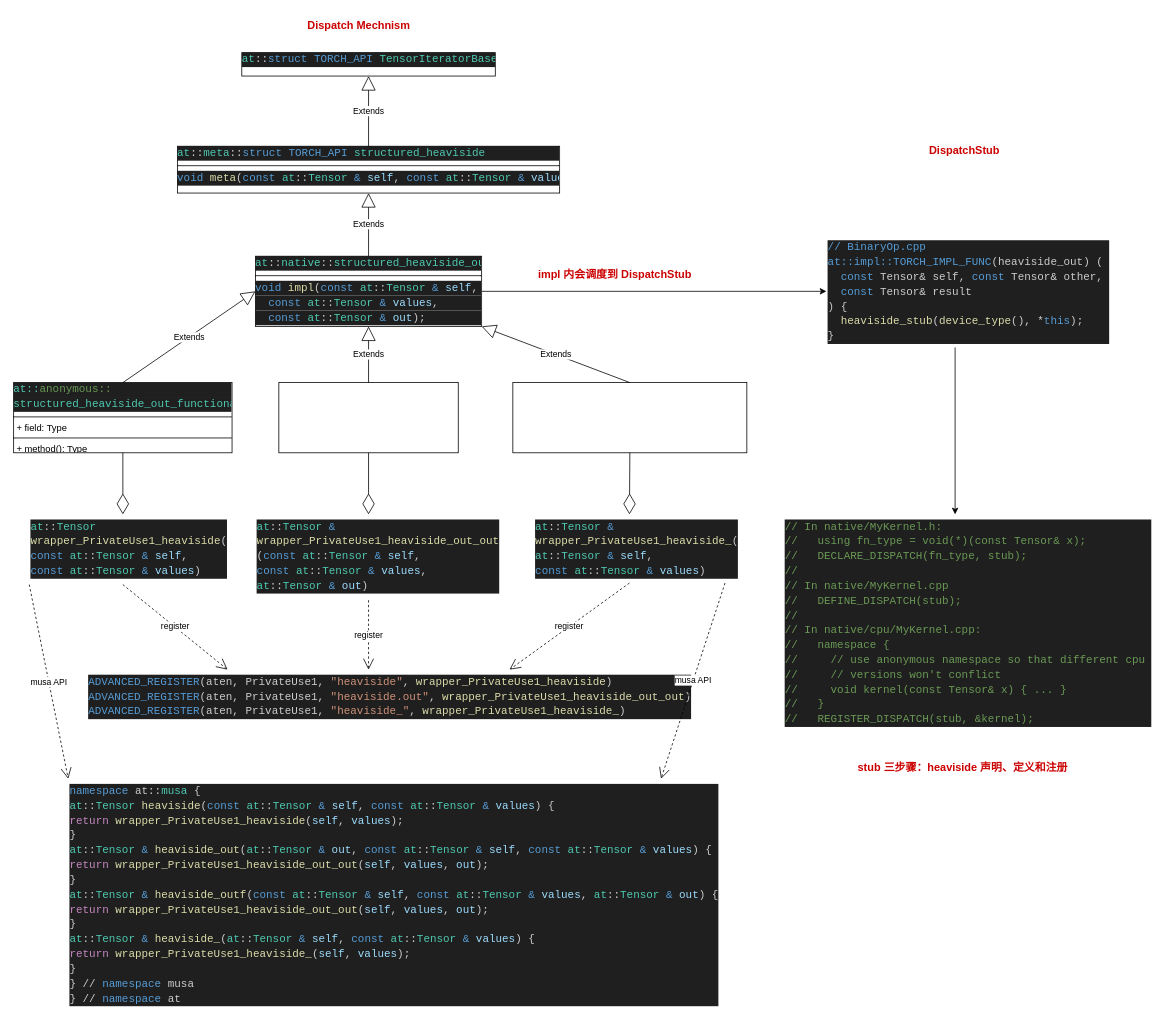
Image size: 1165x1026. Some labels were removed from this diagram. The shapes that lost their labels are listed below. From the top down, each one's centre as x and y in pixels, then its label:
At pixel 368 417: "at:: anonymous:: structured_heaviside_out_out + field: Type + method(): Type".
At pixel 629 417: "at:: anonymous:: structured_heaviside_out_inplace + field: Type + method(): Type".
